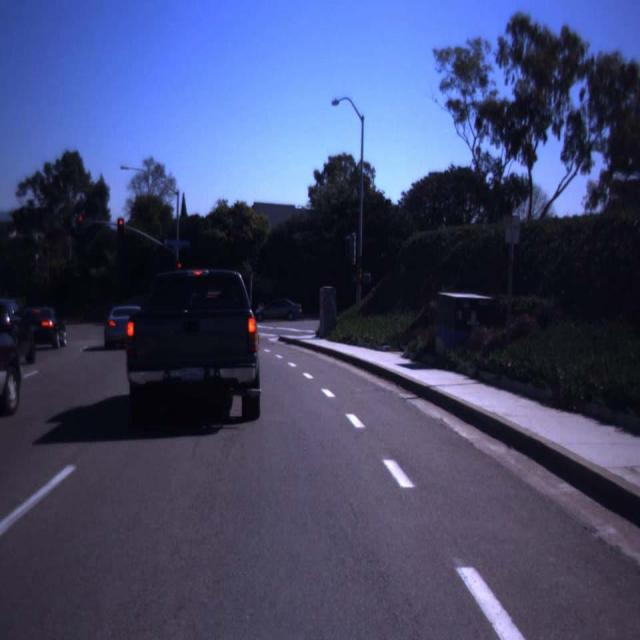kirmizi: (175, 262, 182, 286), (117, 218, 124, 240), (77, 215, 83, 238)
